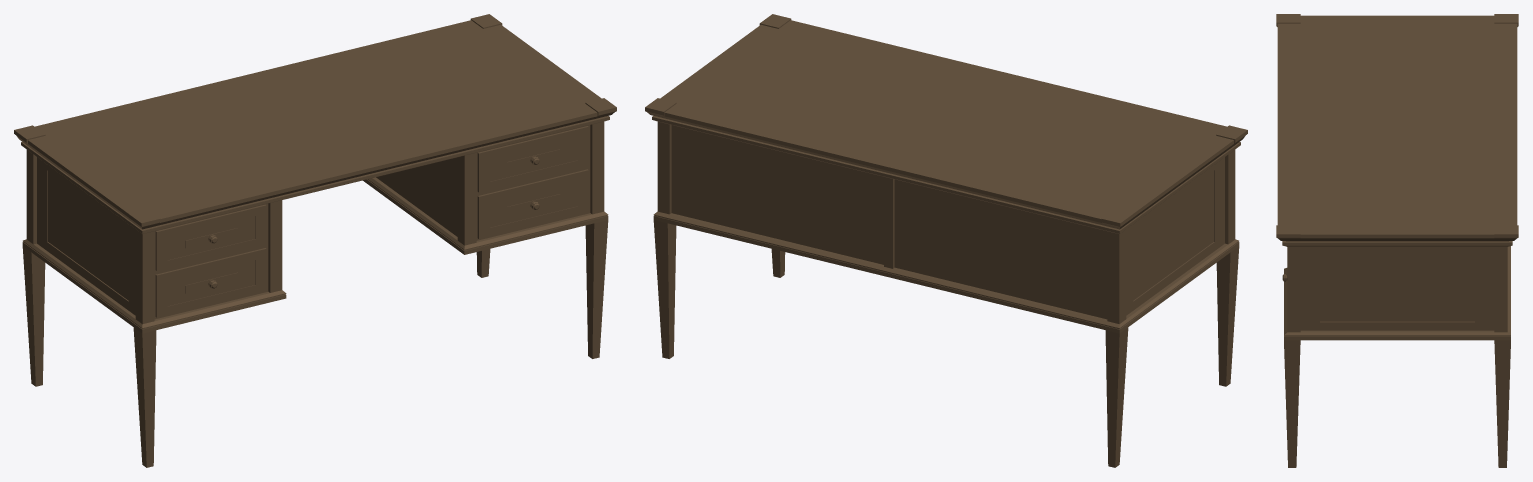
The picture shows the model from 3 angles, left to right: view 1: azimuth 30°, elevation 25°; view 2: azimuth 150°, elevation 25°; view 3: azimuth 270°, elevation 25°; orthographic projection. The views are drawn at different scales.
Visible parts, largest first — view 1: Desk, Desk_Drawer2, Desk_Drawer4, Desk_Drawer3, Desk_Drawer1; view 2: Desk; view 3: Desk.
Boxes of the visible parts, bbox=[...] form: Desk: bbox=[14, 14, 616, 467]; Desk_Drawer2: bbox=[477, 169, 588, 238]; Desk_Drawer4: bbox=[155, 248, 266, 317]; Desk_Drawer3: bbox=[155, 204, 266, 270]; Desk_Drawer1: bbox=[477, 126, 588, 192]; Desk: bbox=[645, 14, 1247, 467]; Desk: bbox=[1276, 14, 1518, 467].
Size of the model in its own units: 1.82 by 0.9226 by 0.8466.
